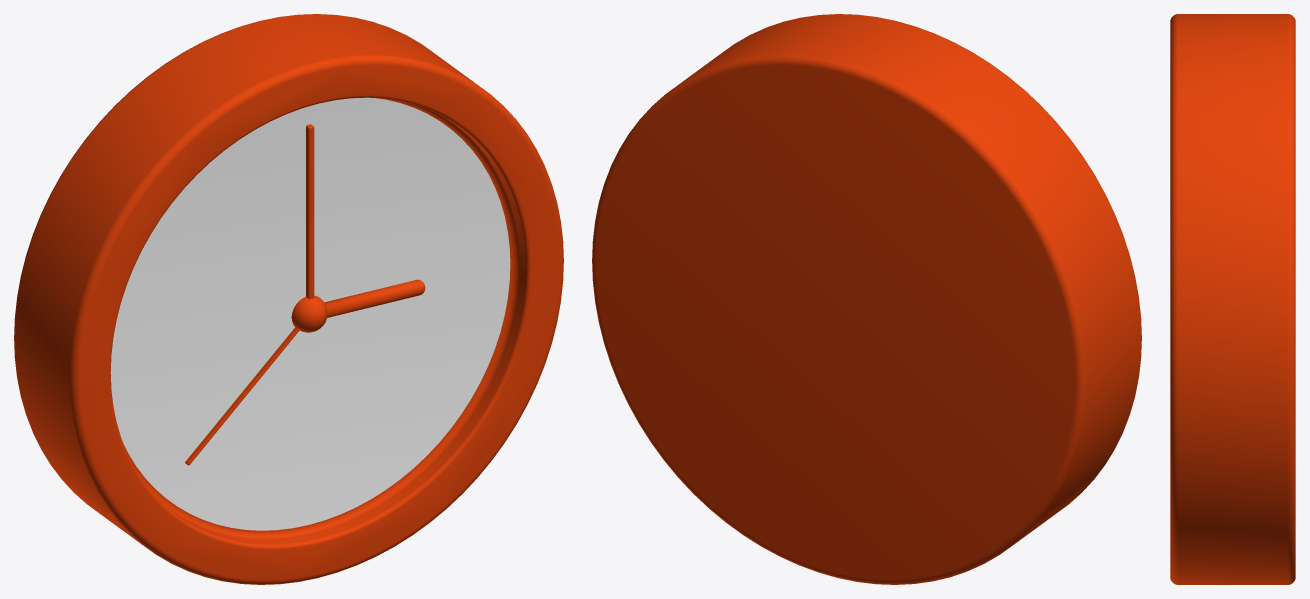
File: clock.glb
3 views of the same model, side by side, from view 1: azimuth 30°, elevation 25°; view 2: azimuth 150°, elevation 25°; view 3: azimuth 270°, elevation 25° (orthographic).
Parts seen in each view (by area): view 1: clock; view 2: clock; view 3: clock.
Boxes of the visible parts, <box> form: clock: <box>14,14,563,584</box>; clock: <box>592,14,1141,584</box>; clock: <box>1170,14,1295,584</box>.
Size of the model in its own units: 24.08 by 24.08 by 5.3.
